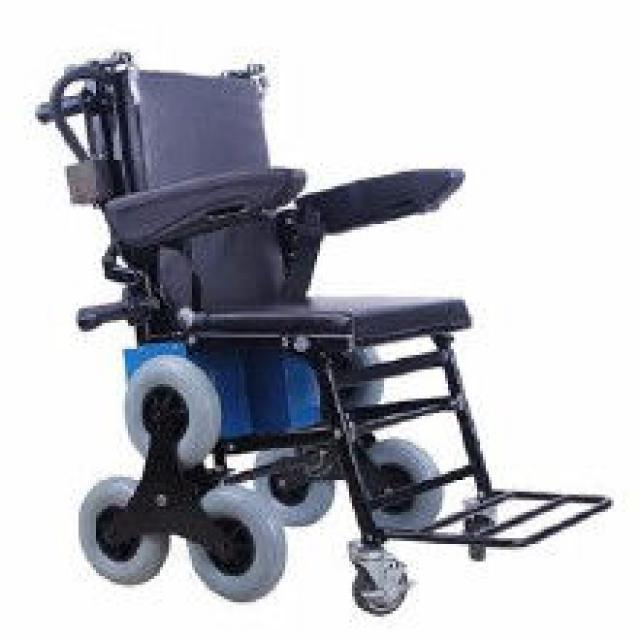wheelchair: (38, 32, 622, 617)
